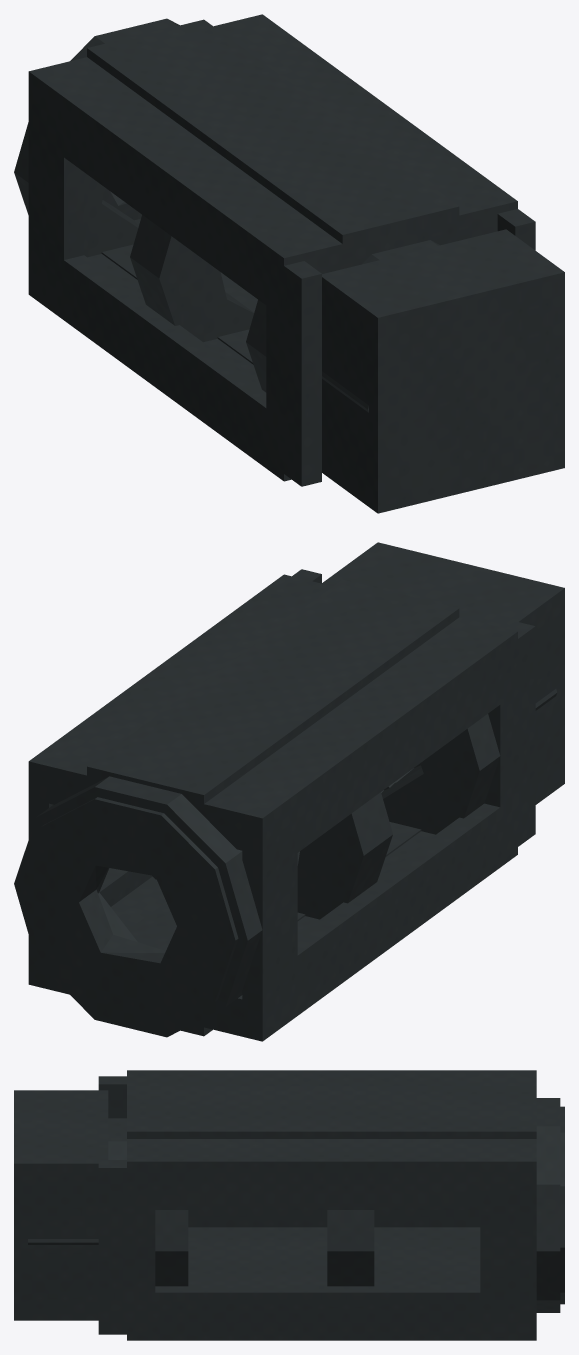
Rendered from mcx_muzzle.glb.
3 renders of one model, top to bottom at view 1: azimuth 30°, elevation 25°; view 2: azimuth 150°, elevation 25°; view 3: azimuth 270°, elevation 25°, orthographic. The views are drawn at different scales.
Parts seen in each view (by area): view 1: muzzle__mcx_muzzle_LOD1_RAID_Secondary_Original_steel, muzzle__mcx_muzzle_LOD0_RAID_Secondary_Original_steel; view 2: muzzle__mcx_muzzle_LOD1_RAID_Secondary_Original_steel, muzzle__mcx_muzzle_LOD0_RAID_Secondary_Original_steel; view 3: muzzle__mcx_muzzle_LOD1_RAID_Secondary_Original_steel, muzzle__mcx_muzzle_LOD0_RAID_Secondary_Original_steel.
Part boxes in pixels (<box>): muzzle__mcx_muzzle_LOD1_RAID_Secondary_Original_steel: <box>28,14,564,513</box>; muzzle__mcx_muzzle_LOD0_RAID_Secondary_Original_steel: <box>14,18,459,412</box>; muzzle__mcx_muzzle_LOD1_RAID_Secondary_Original_steel: <box>28,542,564,1041</box>; muzzle__mcx_muzzle_LOD0_RAID_Secondary_Original_steel: <box>14,579,557,1037</box>; muzzle__mcx_muzzle_LOD1_RAID_Secondary_Original_steel: <box>14,1070,536,1340</box>; muzzle__mcx_muzzle_LOD0_RAID_Secondary_Original_steel: <box>28,1086,564,1312</box>.
Bounding box in the file's own units: 0.046 × 0.0453 × 0.117.
1 material, 1 textured.
